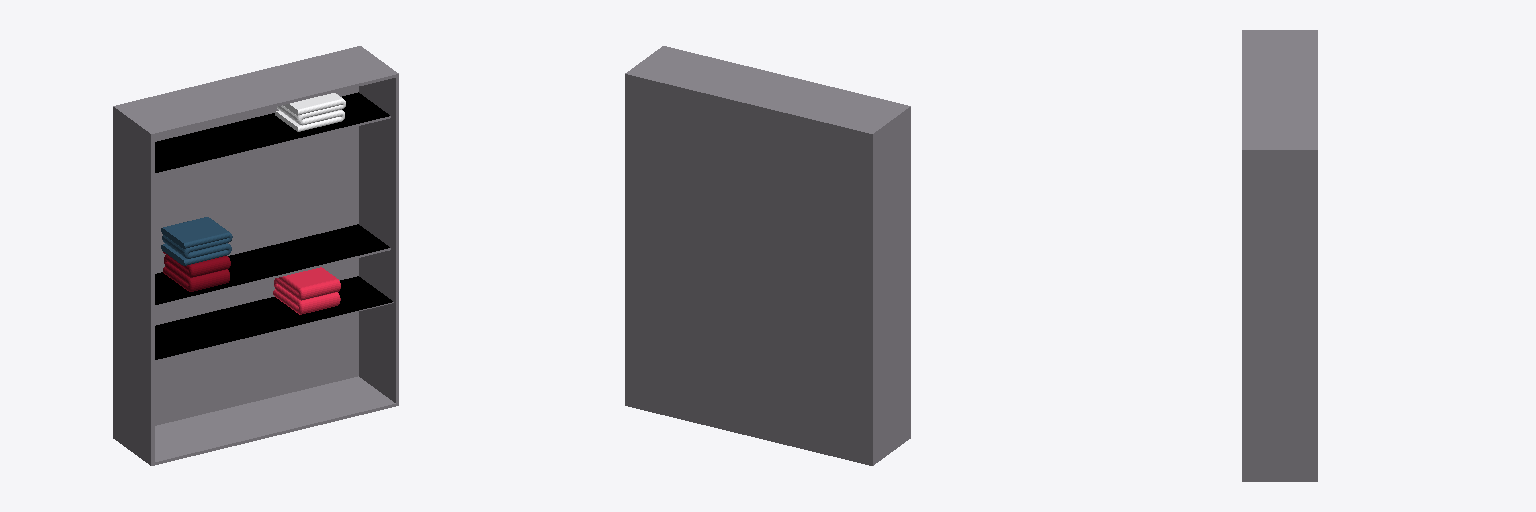
3 renders of one model, left to right at view 1: azimuth 30°, elevation 25°; view 2: azimuth 150°, elevation 25°; view 3: azimuth 270°, elevation 25°, orthographic.
Visible parts, largest first — view 1: prueba_segundo_piso:polySurface510; view 2: prueba_segundo_piso:polySurface510; view 3: prueba_segundo_piso:polySurface510.
Boxes of the visible parts, <box> form: prueba_segundo_piso:polySurface510: <box>113,46,398,465</box>; prueba_segundo_piso:polySurface510: <box>625,46,910,465</box>; prueba_segundo_piso:polySurface510: <box>1242,30,1317,481</box>.
Bounding box in the file's own units: 5.03 × 6.44 × 1.35.
6 materials, 5 textured.